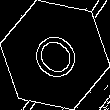O_SE: (23, 22, 87, 88)
